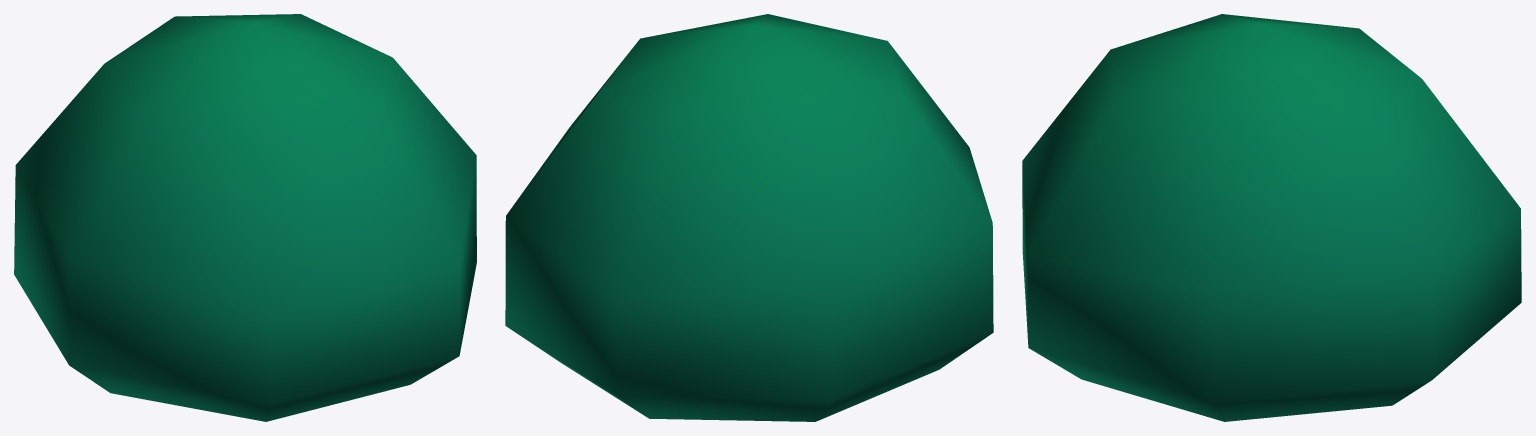
File: bush_C.glb
3 views of the same model, side by side, from view 1: azimuth 30°, elevation 25°; view 2: azimuth 150°, elevation 25°; view 3: azimuth 270°, elevation 25° (orthographic).
Parts seen in each view (by area): view 1: bush_C; view 2: bush_C; view 3: bush_C.
Boxes of the visible parts, <box> form: bush_C: <box>14,14,476,421</box>; bush_C: <box>505,14,993,421</box>; bush_C: <box>1022,14,1521,421</box>.
Size of the model in its own units: 0.3805 by 0.2774 by 0.392.
1 material, 1 textured.
